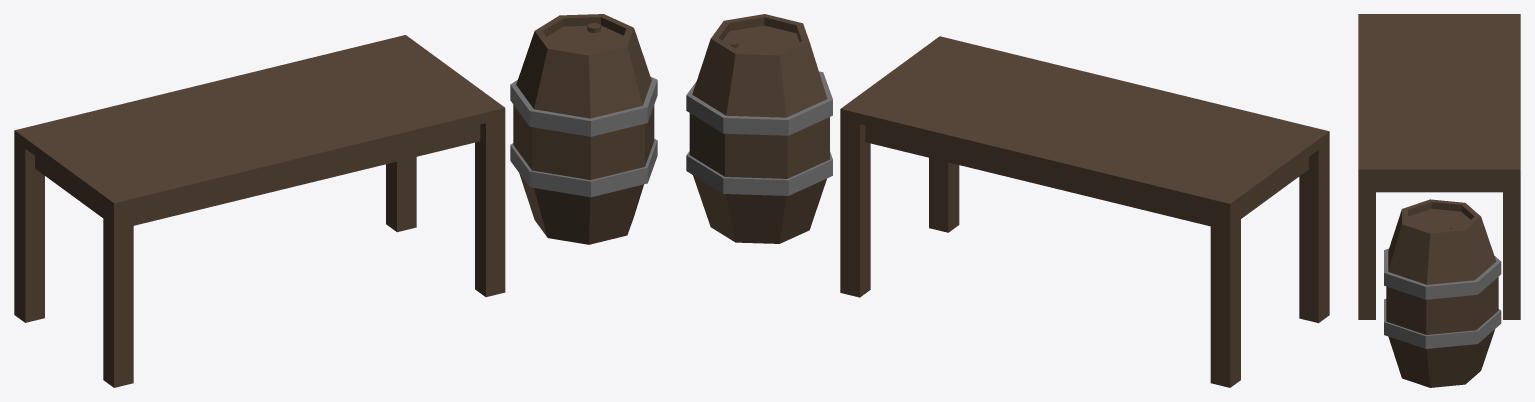
Rendered from Barrel&Table.fbx.
3 views of the same model, side by side, from view 1: azimuth 30°, elevation 25°; view 2: azimuth 150°, elevation 25°; view 3: azimuth 270°, elevation 25° (orthographic). The views are drawn at different scales.
Visible parts, largest first — view 1: Table, Barrel; view 2: Table, Barrel; view 3: Table, Barrel.
Boxes of the visible parts, x1,y1,x2,y2 form: Table: (14,35,505,387); Barrel: (510,14,657,244); Table: (840,36,1329,387); Barrel: (686,14,832,243); Table: (1358,14,1520,319); Barrel: (1384,199,1501,387).
Bounding box in the file's own units: 299 × 92.95 × 88.28.
